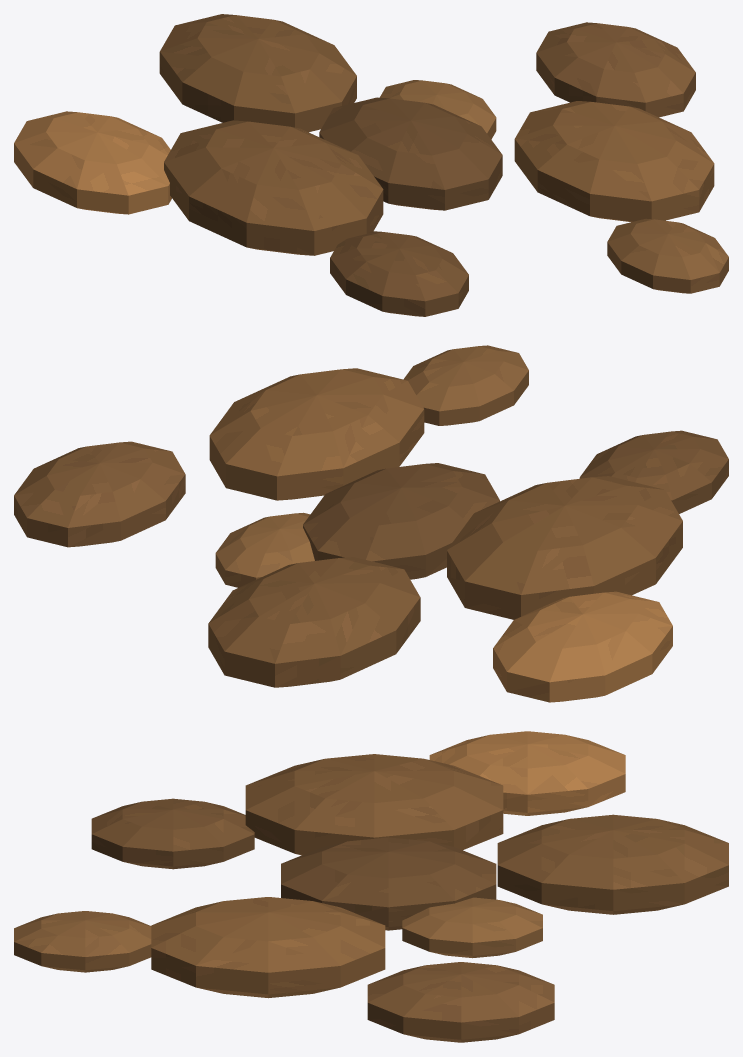
The model's file is seed_radish.glb.
3 renders of one model, top to bottom at view 1: azimuth 30°, elevation 25°; view 2: azimuth 150°, elevation 25°; view 3: azimuth 270°, elevation 25°, orthographic. The views are drawn at different scales.
Visible parts, largest first — view 1: block_grain 2, block_grain 3, block_grain 4, block_grain 0, block_grain 7, block_grain 6, block_grain 5, block_grain 8, block_grain 1; view 2: block_grain 2, block_grain 3, block_grain 4, block_grain 7, block_grain 0, block_grain 6, block_grain 8, block_grain 5, block_grain 1; view 3: block_grain 2, block_grain 3, block_grain 4, block_grain 0, block_grain 6, block_grain 7, block_grain 5, block_grain 8, block_grain 1.
Boxes of the visible parts, bbox=[...] form: block_grain 2: bbox=[164, 120, 383, 255]; block_grain 3: bbox=[514, 101, 714, 222]; block_grain 4: bbox=[159, 14, 356, 132]; block_grain 0: bbox=[319, 97, 502, 210]; block_grain 7: bbox=[14, 111, 171, 214]; block_grain 6: bbox=[536, 22, 695, 117]; block_grain 5: bbox=[330, 231, 468, 316]; block_grain 8: bbox=[607, 218, 728, 293]; block_grain 1: bbox=[380, 80, 496, 139]; block_grain 2: bbox=[447, 476, 682, 619]; block_grain 3: bbox=[209, 368, 424, 500]; block_grain 4: bbox=[208, 557, 420, 687]; block_grain 7: bbox=[493, 591, 672, 702]; block_grain 0: bbox=[303, 463, 499, 579]; block_grain 6: bbox=[14, 441, 185, 547]; block_grain 8: bbox=[403, 345, 528, 425]; block_grain 5: bbox=[579, 430, 728, 513]; block_grain 1: bbox=[215, 512, 314, 587]; block_grain 2: bbox=[245, 754, 503, 855]; block_grain 3: bbox=[151, 897, 385, 998]; block_grain 4: bbox=[497, 814, 728, 914]; block_grain 0: bbox=[281, 837, 496, 930]; block_grain 6: bbox=[367, 962, 554, 1042]; block_grain 7: bbox=[429, 731, 625, 815]; block_grain 5: bbox=[91, 798, 254, 869]; block_grain 8: bbox=[14, 911, 151, 972]; block_grain 1: bbox=[402, 897, 542, 958].
Bounding box in the file's own units: 0.0209 × 0.00262 × 0.022.
Materials: 1 (1 with a texture image).
